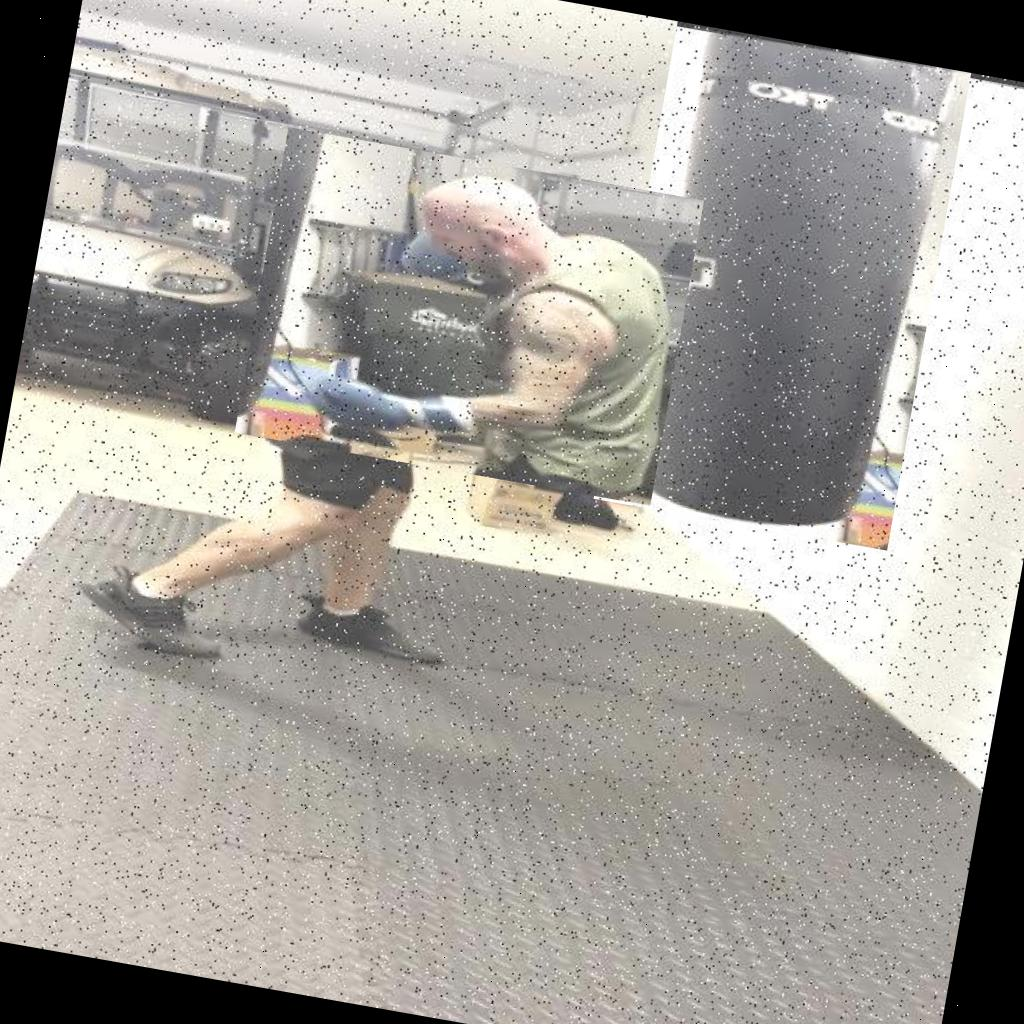bag: (594, 22, 971, 550)
uppercut: (235, 128, 704, 506)
